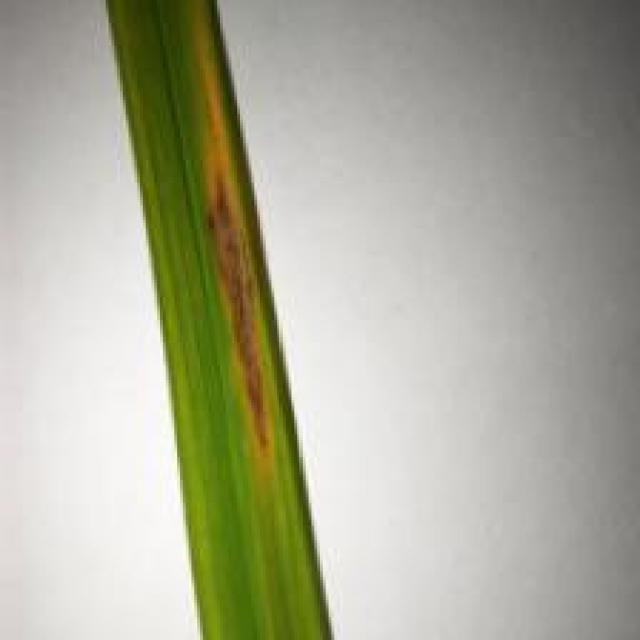Leaf_Blast: (195, 35, 275, 481)
